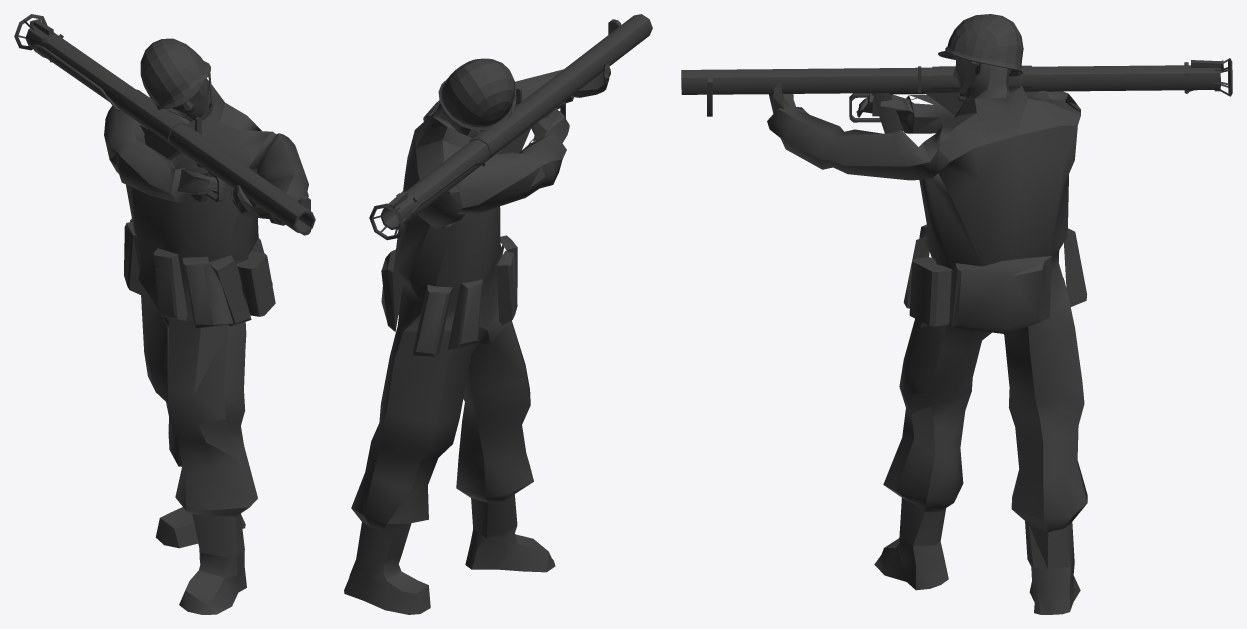
File: us_bazooka_piedi.glb
3 views of the same model, side by side, from view 1: azimuth 30°, elevation 25°; view 2: azimuth 150°, elevation 25°; view 3: azimuth 270°, elevation 25° (orthographic). The views are drawn at different scales.
Parts seen in each view (by area): view 1: Object.004_Object.017_2; view 2: Object.004_Object.017_2; view 3: Object.004_Object.017_2.
Part boxes in pixels (bbox=[...]): Object.004_Object.017_2: bbox=[14, 14, 315, 614]; Object.004_Object.017_2: bbox=[344, 14, 652, 614]; Object.004_Object.017_2: bbox=[681, 14, 1232, 614].
Size of the model in its own units: 0.1609 by 0.5 by 0.4528.
Materials: 1 (1 with a texture image).
